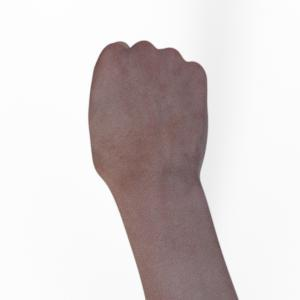rock: (89, 41, 238, 300)
